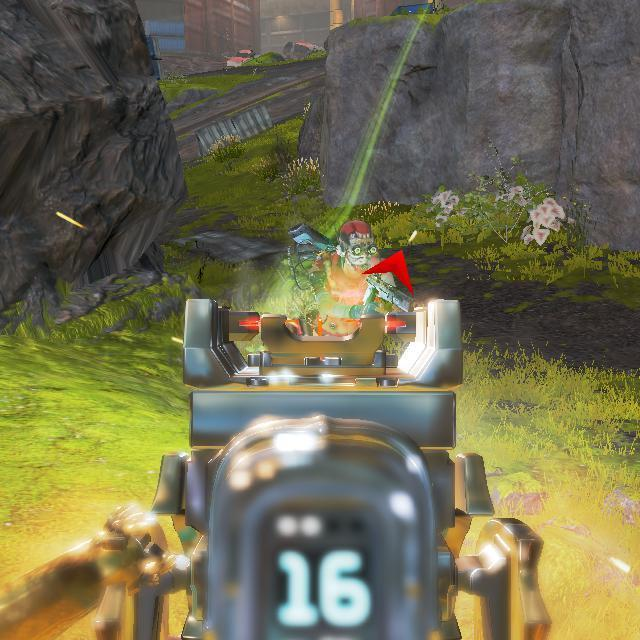avatar: (284, 217, 399, 317)
